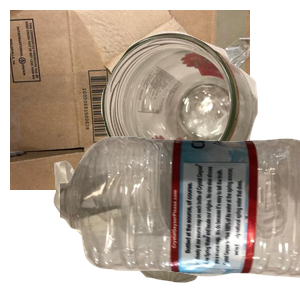cardboard: (10, 10, 250, 190)
glass: (98, 29, 300, 198)
plastic: (60, 134, 300, 300)
trash: (51, 142, 278, 300)
